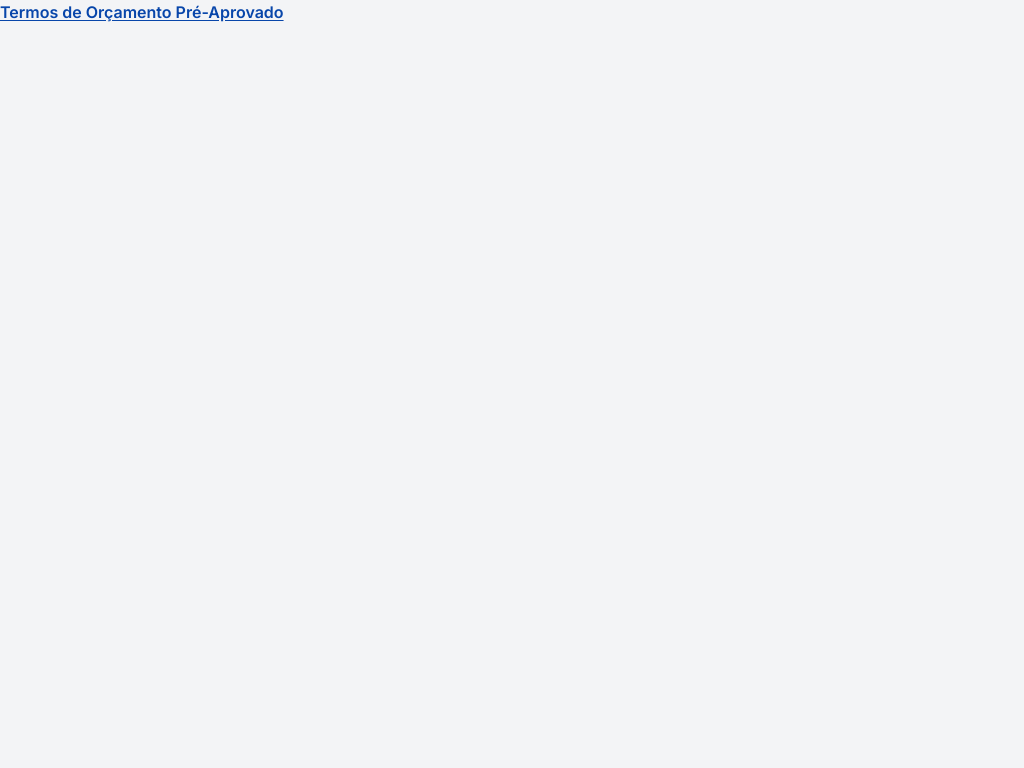
TermsDialog › pushes terms_open to dataLayer once per open
Click the button "Termos de Orçamento Pré-Aprovado".
click(142, 12)  # box top-left (0, 0), bottom-right (284, 24)
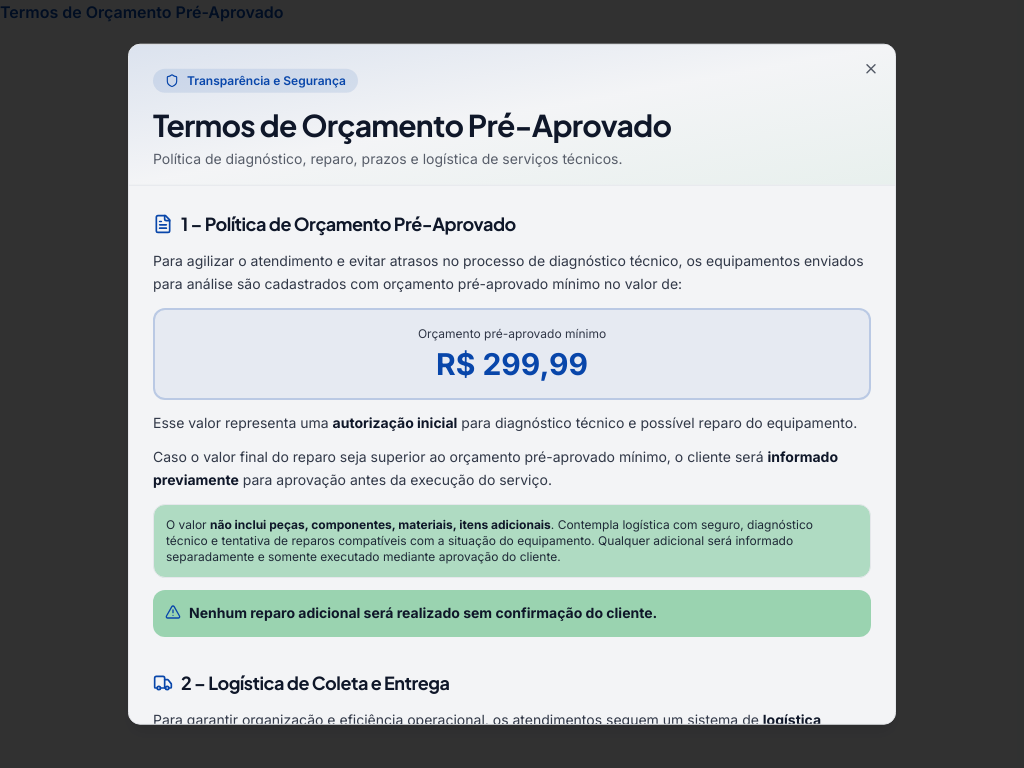
Result: the dialog is shown
